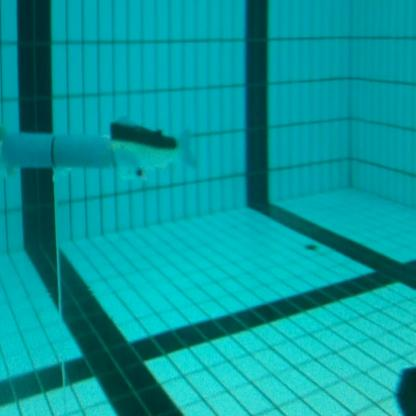tail: (106, 112, 198, 183)
